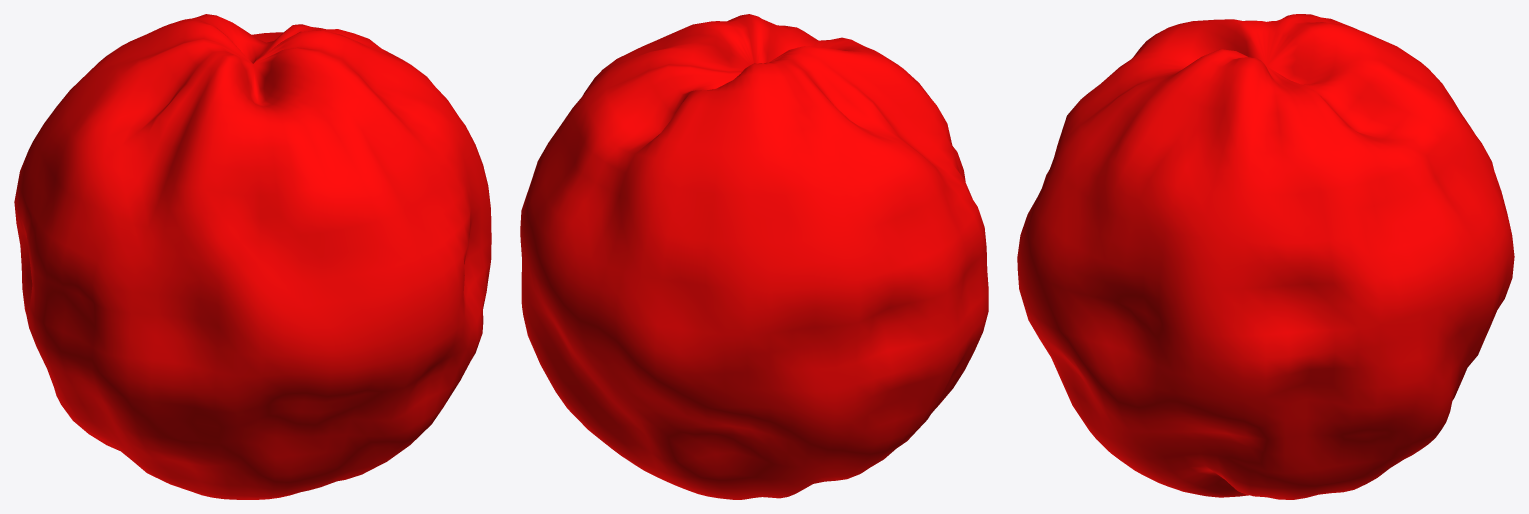
File: Fire_Ball.fbx
3 views of the same model, side by side, from view 1: azimuth 30°, elevation 25°; view 2: azimuth 150°, elevation 25°; view 3: azimuth 270°, elevation 25° (orthographic). The views are drawn at different scales.
Visible parts, largest first — view 1: Sphere.005; view 2: Sphere.005; view 3: Sphere.005.
Boxes of the visible parts, left/top/right/bottom form: Sphere.005: left=14, top=14, right=491, bottom=499; Sphere.005: left=520, top=14, right=988, bottom=499; Sphere.005: left=1017, top=14, right=1514, bottom=499.
Size of the model in its own units: 229 by 233 by 235.
